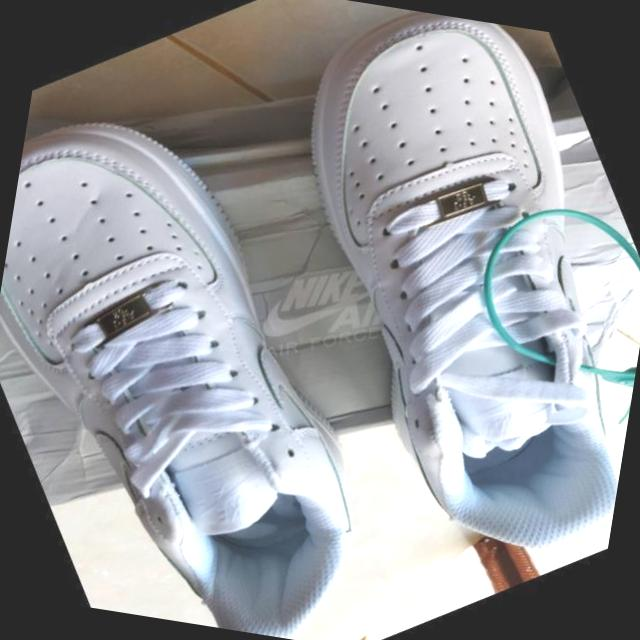nike_fake_airforce: (0, 41, 491, 640), (181, 0, 640, 605)
